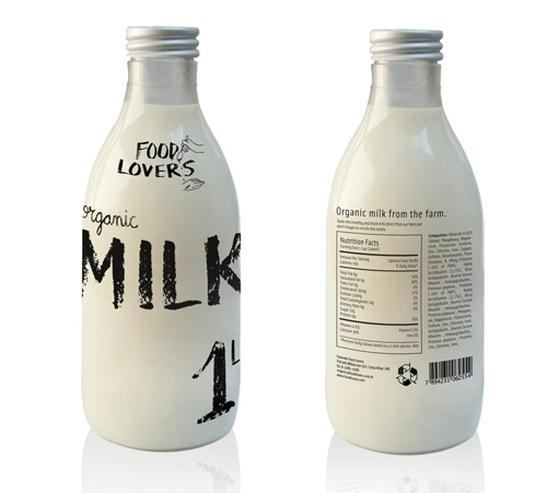milk: (75, 16, 244, 455), (327, 19, 490, 457)
